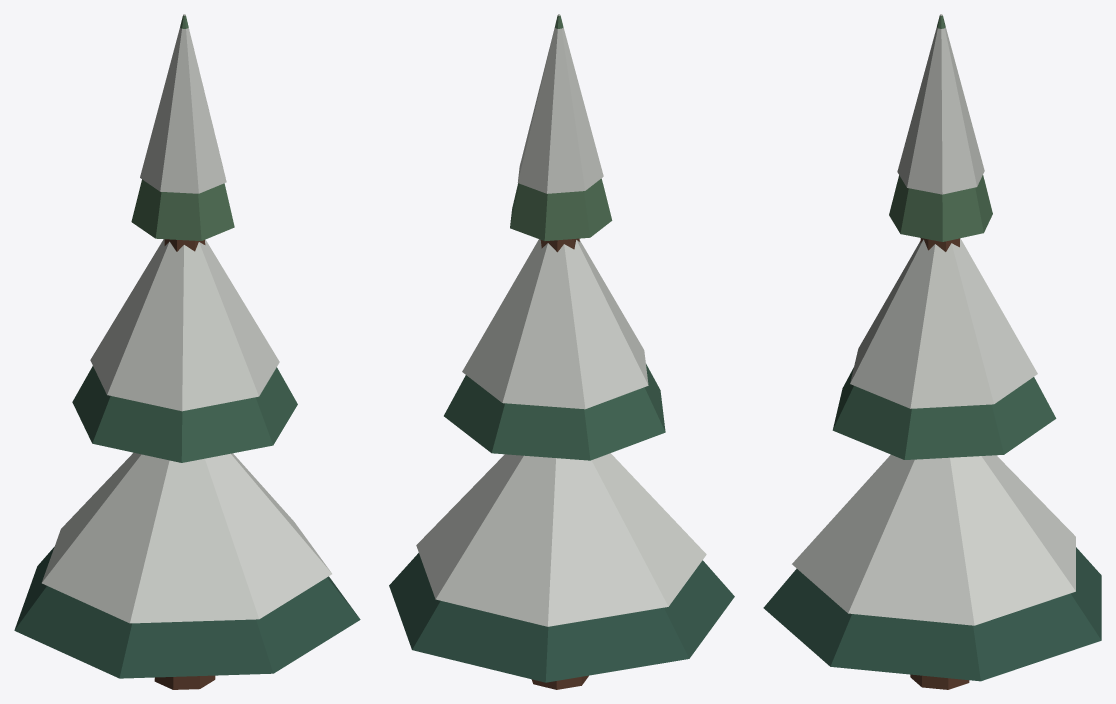
3 views of the same model, side by side, from view 1: azimuth 30°, elevation 25°; view 2: azimuth 150°, elevation 25°; view 3: azimuth 270°, elevation 25° (orthographic).
Parts seen in each view (by area): view 1: T01_层叠雪杉; view 2: T01_层叠雪杉; view 3: T01_层叠雪杉.
Part boxes in pixels (bbox=[...]): T01_层叠雪杉: bbox=[14, 14, 360, 689]; T01_层叠雪杉: bbox=[389, 14, 734, 689]; T01_层叠雪杉: bbox=[763, 14, 1101, 689].
Bounding box in the file's own units: 1.34 × 2.82 × 1.3.
